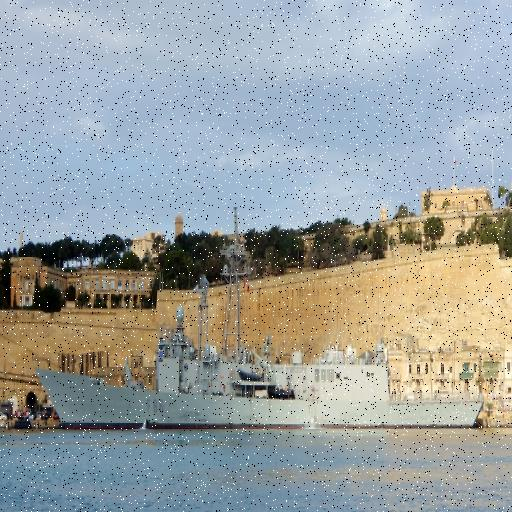Fragata: (34, 274, 489, 431)
